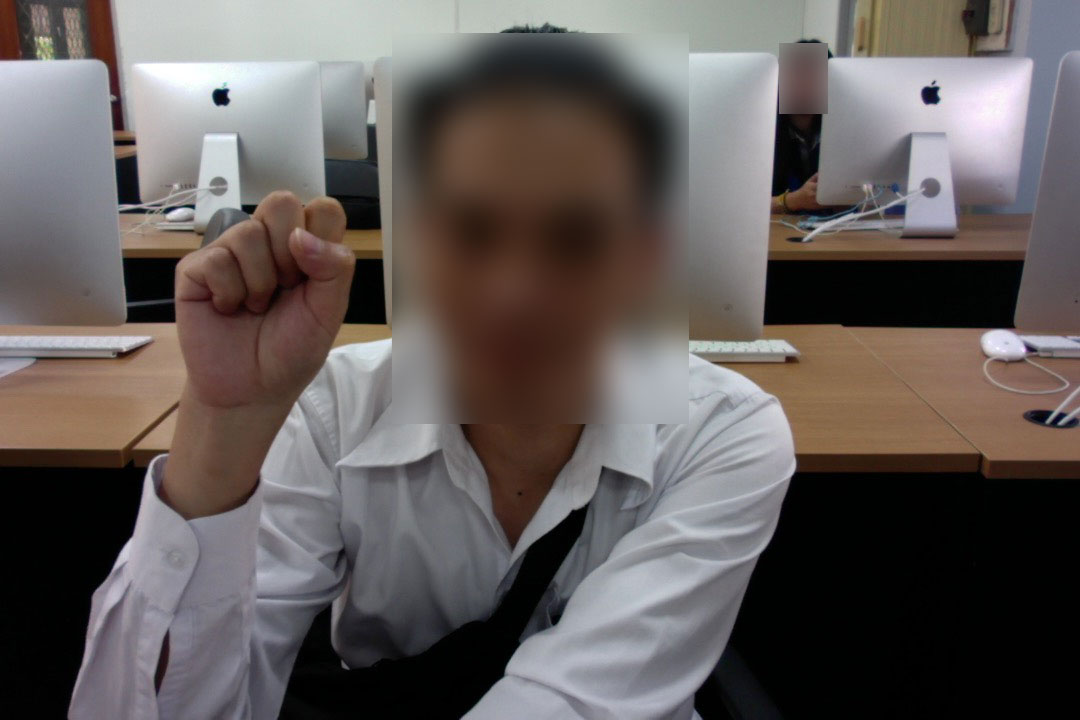sor: (167, 182, 362, 468)
